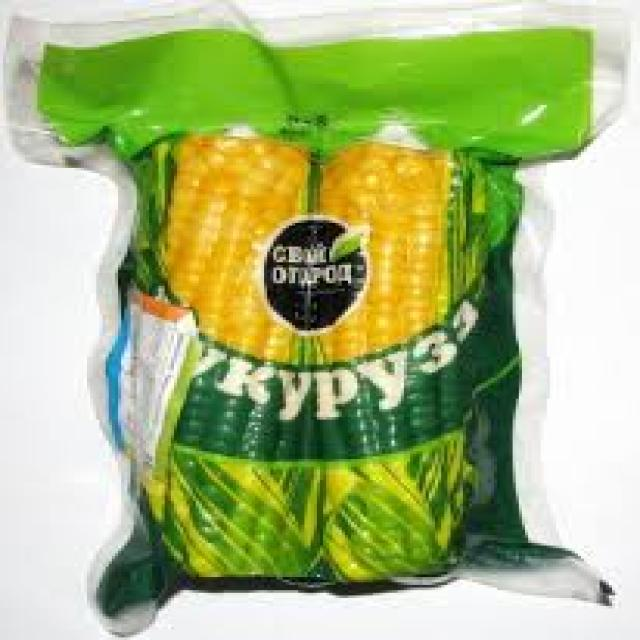corn: (129, 138, 322, 386), (328, 144, 471, 394)
